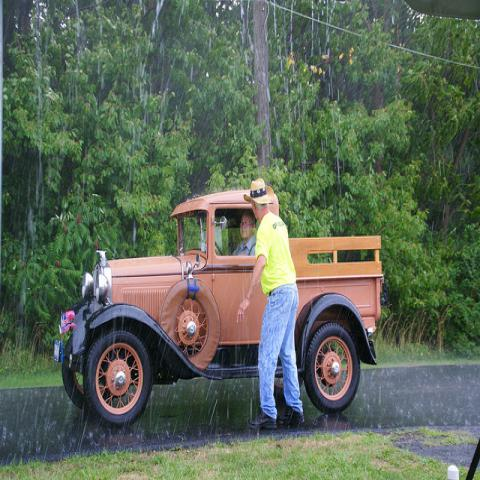truck: (53, 190, 384, 430)
